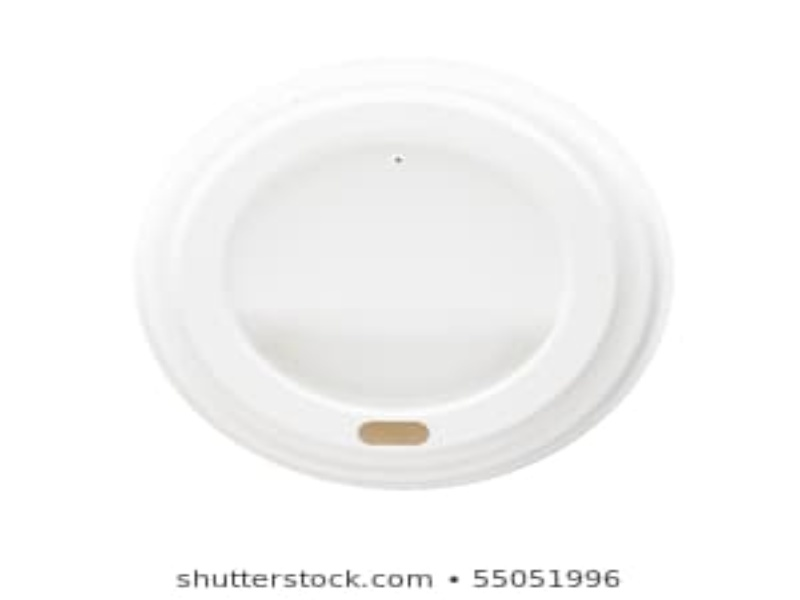coffee-lid: (133, 53, 677, 493)
